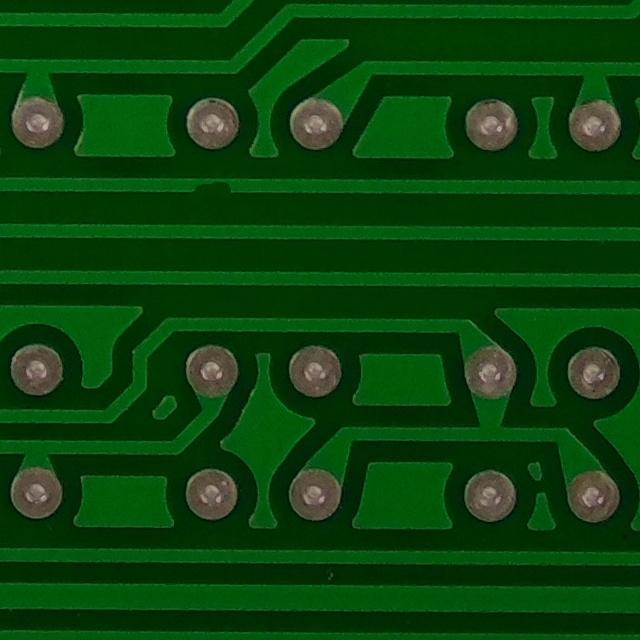mouse_bite: (188, 165, 242, 208)
